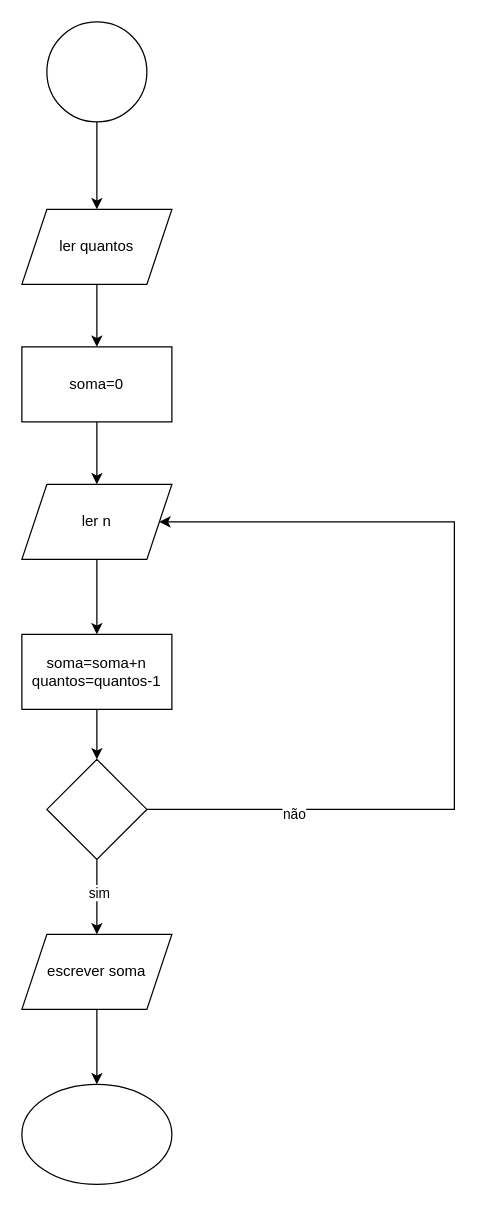
The diagram is 486 pixels wide and 1206 high, and some of its shapes have lost their labels. The shapes that lost their labels are listed below. From the top down, each one's centre as x and y in pixels, then its label:
At [96,71]: "Início".
At [96,808]: "quantos=0".
At [96,1133]: "fim".
